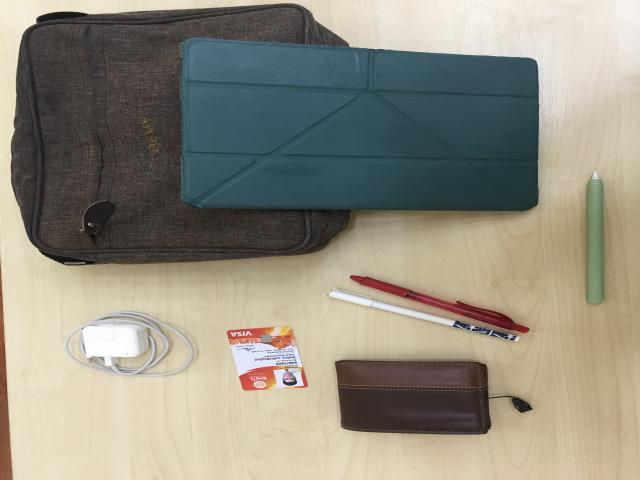Pen: (329, 276, 530, 342)
Wallet: (335, 361, 491, 436)
wire: (64, 312, 196, 378)
